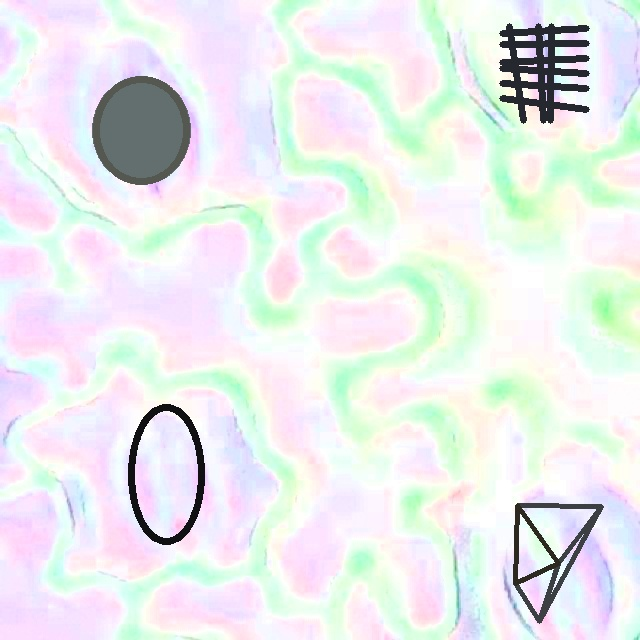close: (128, 403, 205, 545), (513, 503, 603, 623)
open: (92, 75, 190, 184), (500, 23, 589, 122)
